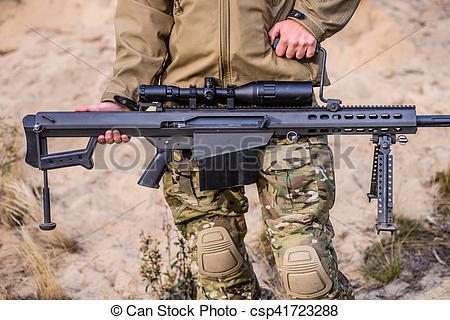Arma Real: (21, 80, 450, 234)
